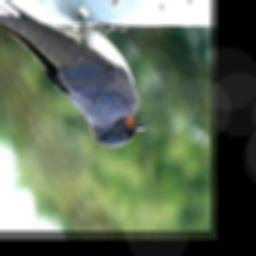Swallow: (0, 0, 147, 148)
